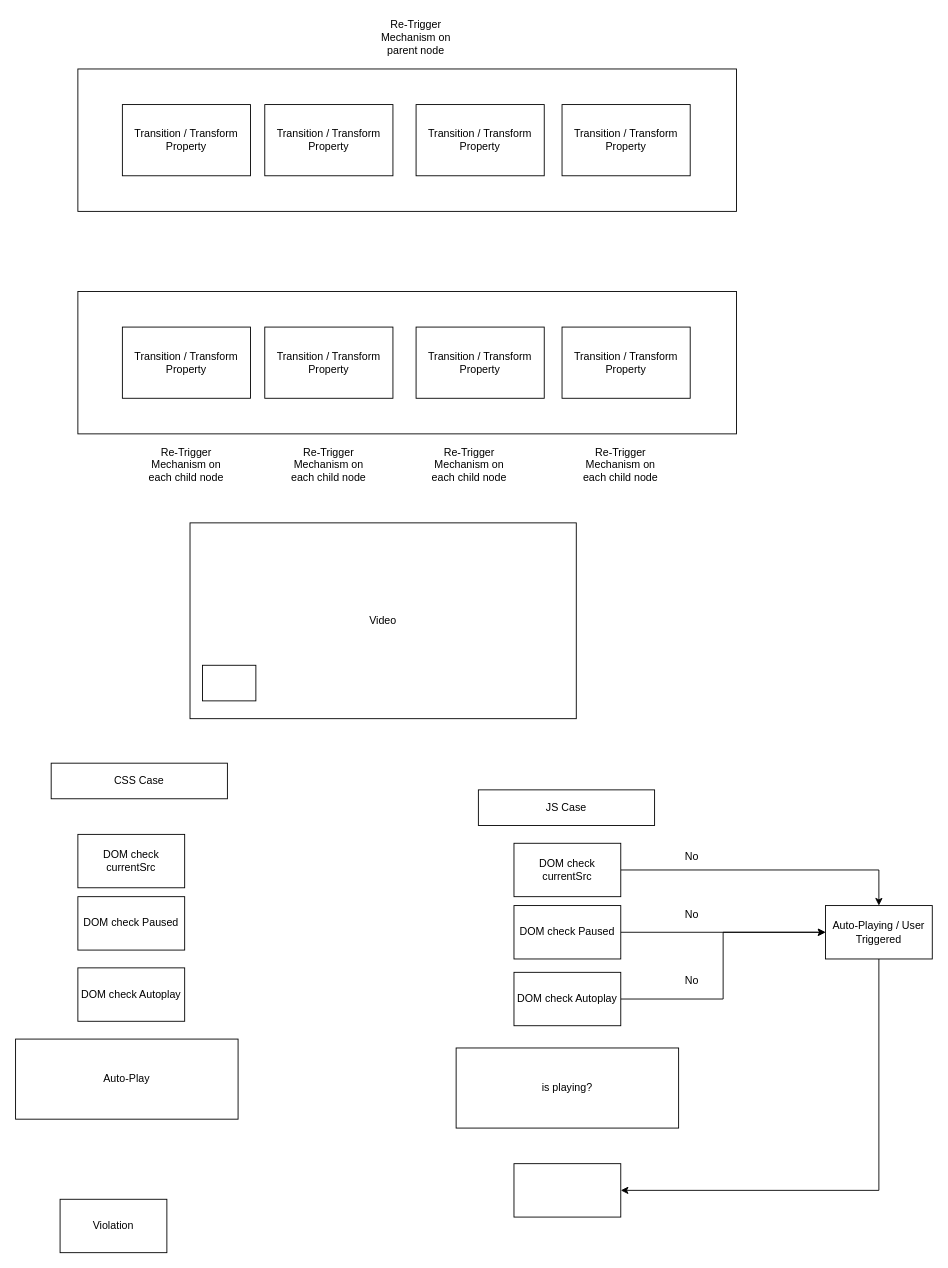
This 948x1268 diagram has some shape labels left out. Each missing label, with the box of its shape:
Needs Review: (513, 1163, 621, 1217)
Stop: (202, 664, 256, 701)
